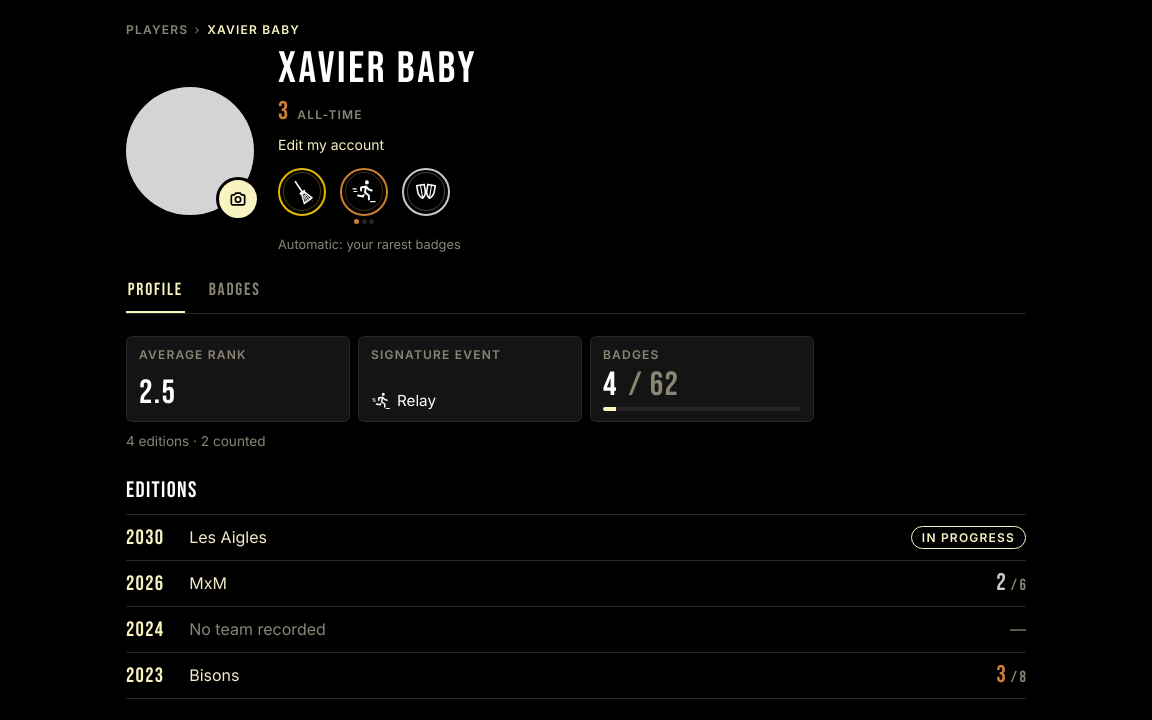
player profile page › owner view: the photo › opens the locked editor when an organiser turned uploads off
Click the button named "Change my photo" at point(238, 199), box [216,177,260,221]
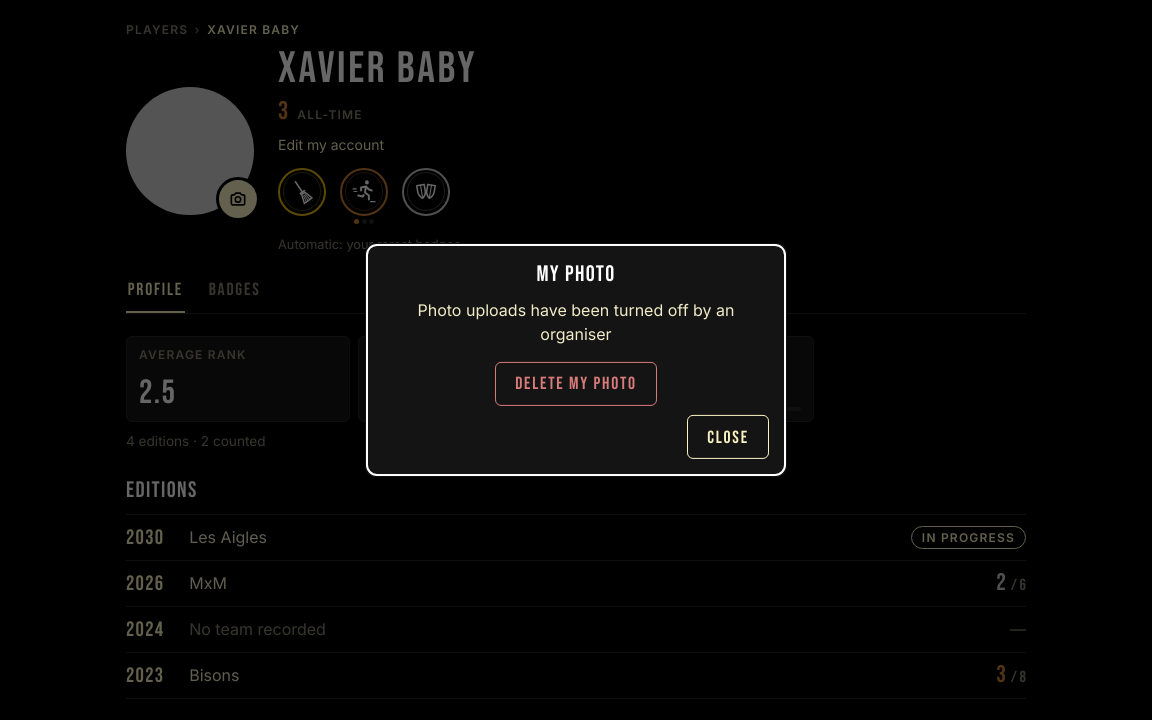
Now the dialog "My photo" shows "Photo uploads have been turned off by an organiser", box [418,300,734,344]
Now the button "Delete my photo" is shown, box [495,362,657,406]
